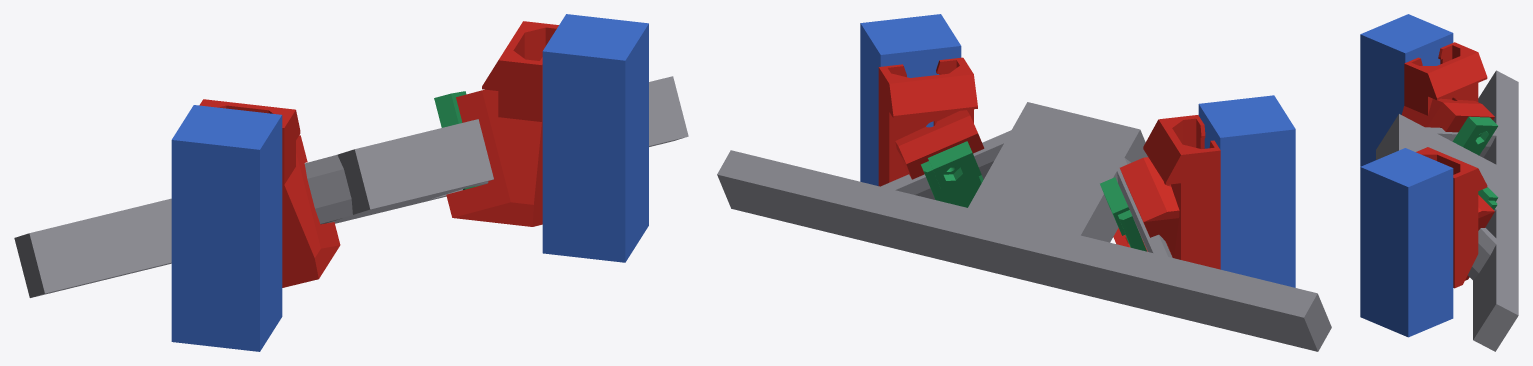
The model's file is assembly_m17.obj.
3 renders of one model, left to right at view 1: azimuth 30°, elevation 25°; view 2: azimuth 150°, elevation 25°; view 3: azimuth 270°, elevation 25°, orthographic. The views are drawn at different scales.
Parts seen in each view (by area): view 1: left_light_placeholder, right_light_placeholder, hanger_schematic, right_saddle, left_saddle, right_keeper; view 2: hanger_schematic, left_light_placeholder, left_saddle, right_saddle, right_light_placeholder, right_keeper, left_keeper; view 3: right_light_placeholder, hanger_schematic, left_light_placeholder, left_saddle, right_saddle, left_keeper, right_keeper.
Part boxes in pixels (x1=…): left_light_placeholder: x1=171, y1=105, x2=282, y2=351; right_light_placeholder: x1=542, y1=14, x2=648, y2=262; hanger_schematic: x1=14, y1=76, x2=688, y2=297; right_saddle: x1=446, y1=21, x2=558, y2=226; left_saddle: x1=199, y1=99, x2=340, y2=287; right_keeper: x1=434, y1=91, x2=481, y2=189; hanger_schematic: x1=717, y1=102, x2=1331, y2=351; left_light_placeholder: x1=1198, y1=95, x2=1295, y2=287; left_saddle: x1=1113, y1=115, x2=1220, y2=269; right_saddle: x1=878, y1=57, x2=984, y2=186; right_light_placeholder: x1=860, y1=14, x2=961, y2=185; right_keeper: x1=921, y1=141, x2=983, y2=207; left_keeper: x1=1100, y1=177, x2=1146, y2=251; right_light_placeholder: x1=1360, y1=148, x2=1453, y2=337; hanger_schematic: x1=1376, y1=70, x2=1518, y2=351; left_light_placeholder: x1=1360, y1=14, x2=1453, y2=166; left_saddle: x1=1401, y1=42, x2=1494, y2=132; right_saddle: x1=1416, y1=147, x2=1494, y2=288; left_keeper: x1=1452, y1=116, x2=1497, y2=155; right_keeper: x1=1478, y1=187, x2=1498, y2=209.
Bounding box in the file's own units: 260 × 78 × 74.52.
